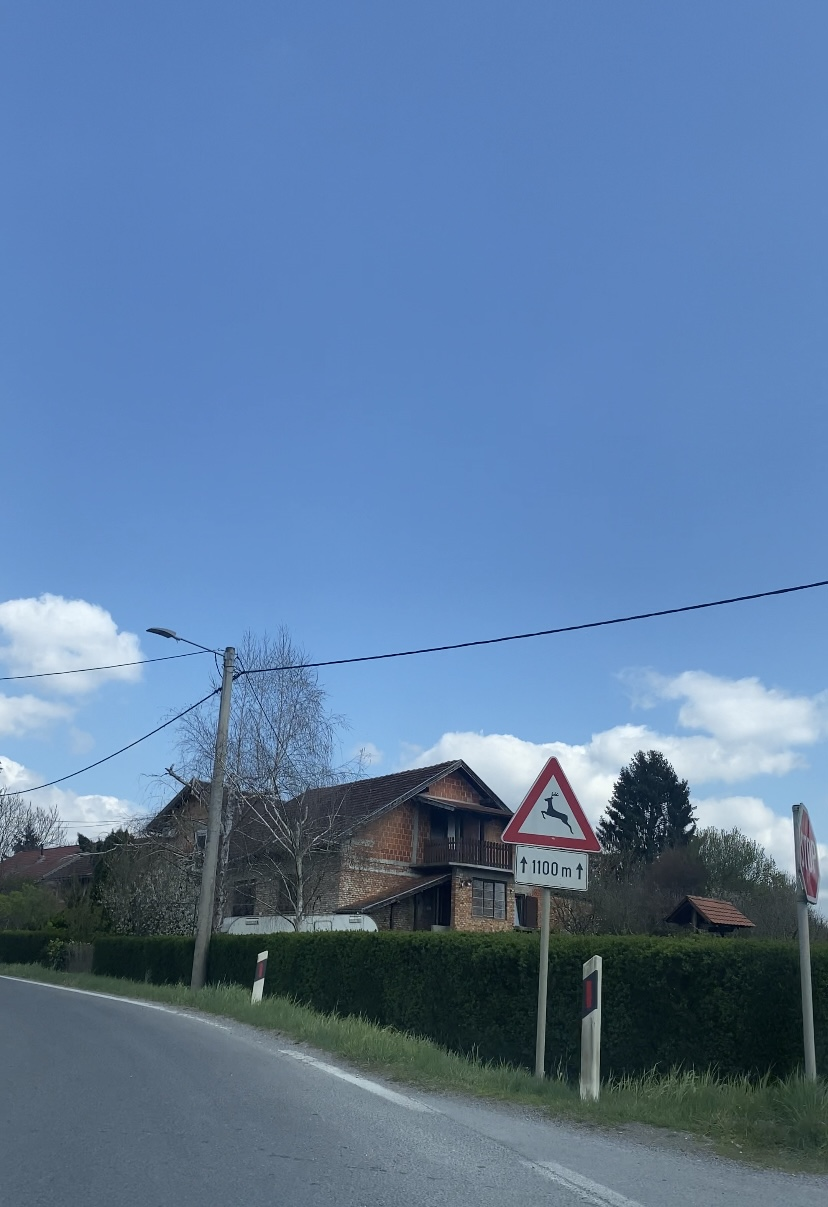Divljač na cesti: (501, 755, 604, 852)
